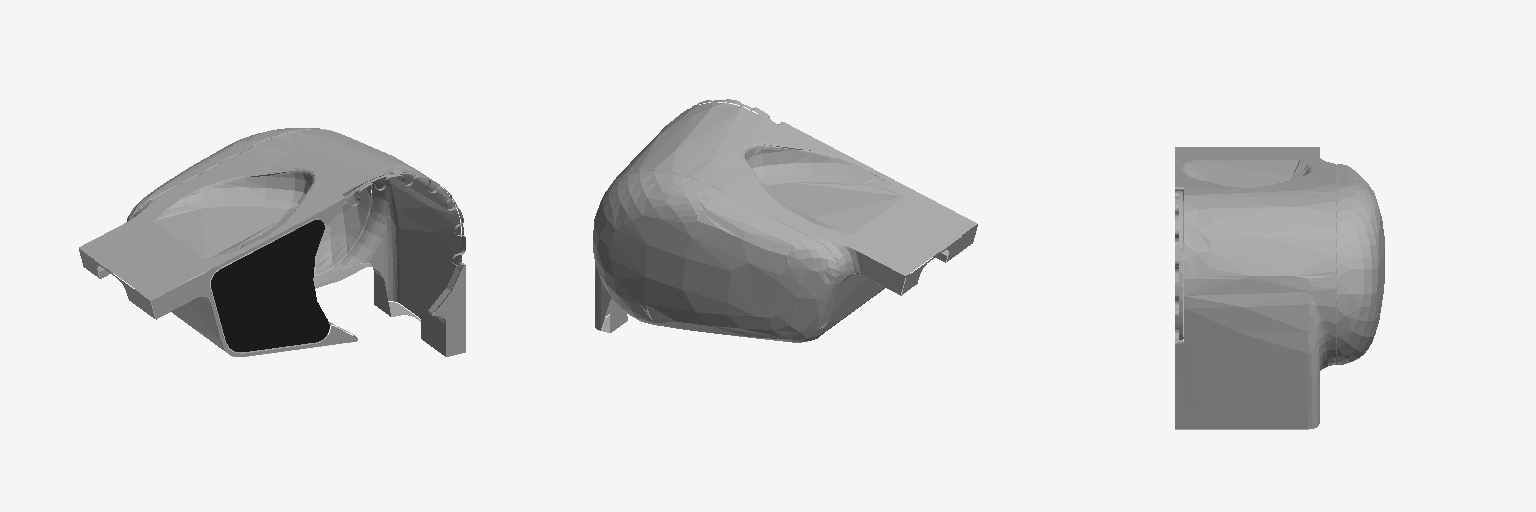
Rendered from shoulder-roll-housing.obj.
3 renders of one model, left to right at view 1: azimuth 30°, elevation 25°; view 2: azimuth 150°, elevation 25°; view 3: azimuth 270°, elevation 25°, orthographic.
Parts seen in each view (by area): view 1: __TMPOBJ_____TMPMESH__.070; view 2: __TMPOBJ_____TMPMESH__.070; view 3: __TMPOBJ_____TMPMESH__.070.
Boxes of the visible parts, x1=… form: __TMPOBJ_____TMPMESH__.070: x1=79, y1=128, x2=465, y2=356; __TMPOBJ_____TMPMESH__.070: x1=593, y1=99, x2=977, y2=342; __TMPOBJ_____TMPMESH__.070: x1=1175, y1=147, x2=1384, y2=429.
Size of the model in its own units: 0.1538 by 0.09 by 0.0887.